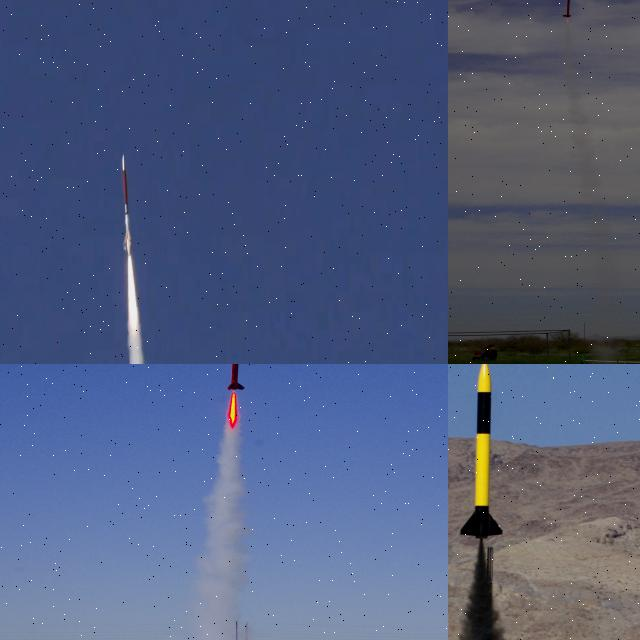Rocket: (458, 364, 504, 539), (122, 155, 133, 255), (226, 364, 245, 390), (575, 352, 593, 364), (562, 0, 572, 18)
